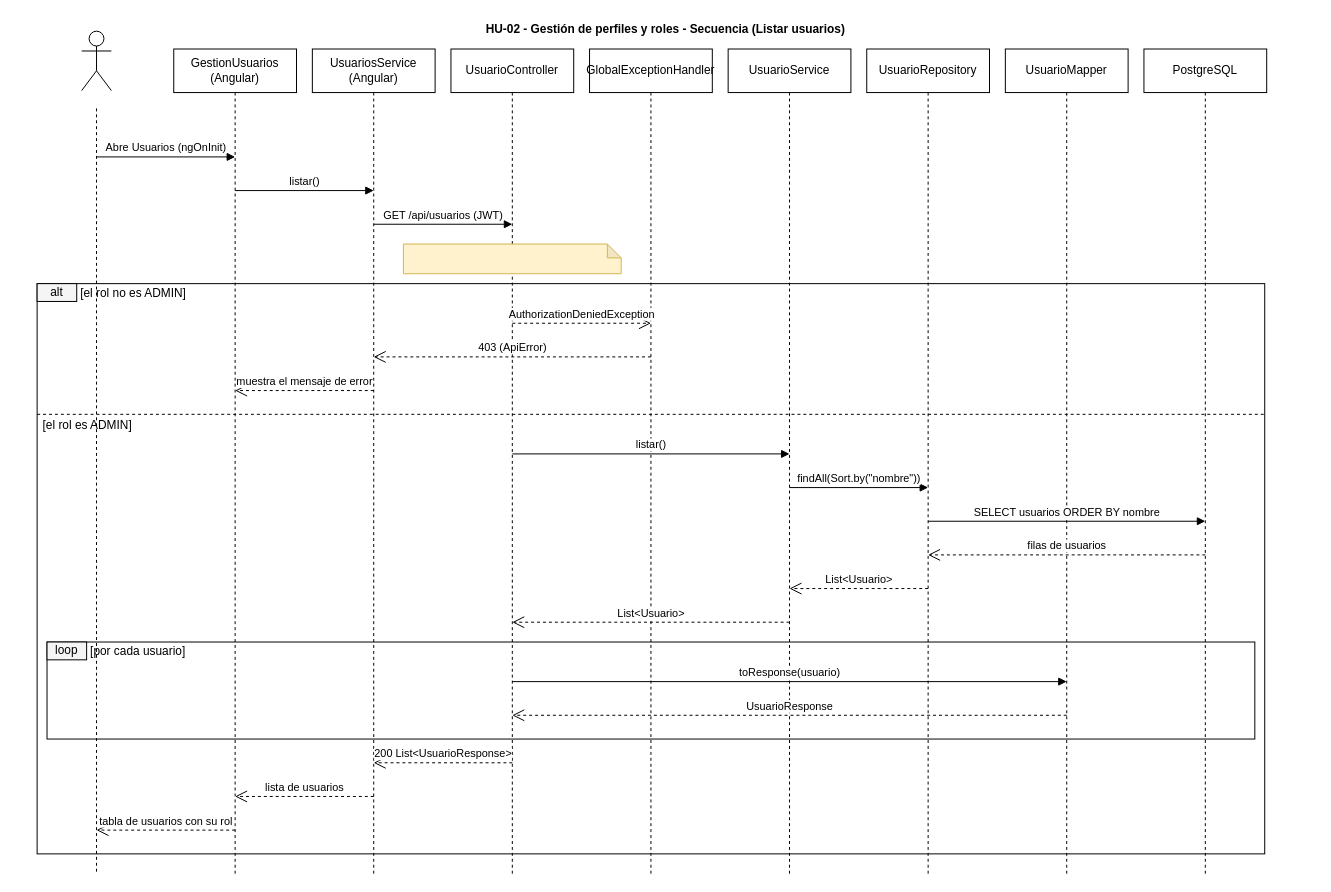
Image size: 1331x892. Some labels were removed from this diagram. Each missing label, with the centre of its shape:
@PreAuthorize hasRole('ADMIN'): (x=511, y=258)
Administrador: (x=96, y=60)
